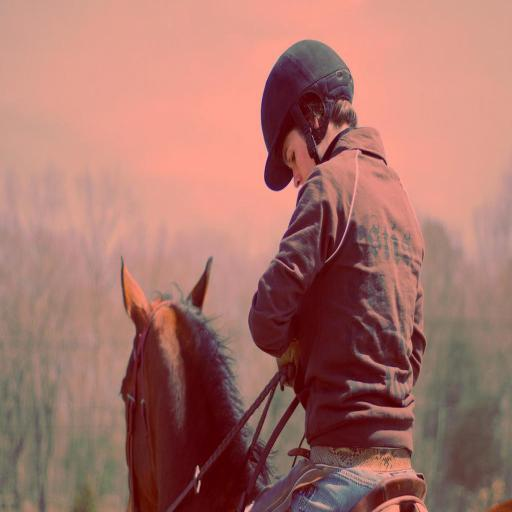horse: (117, 257, 512, 512)
